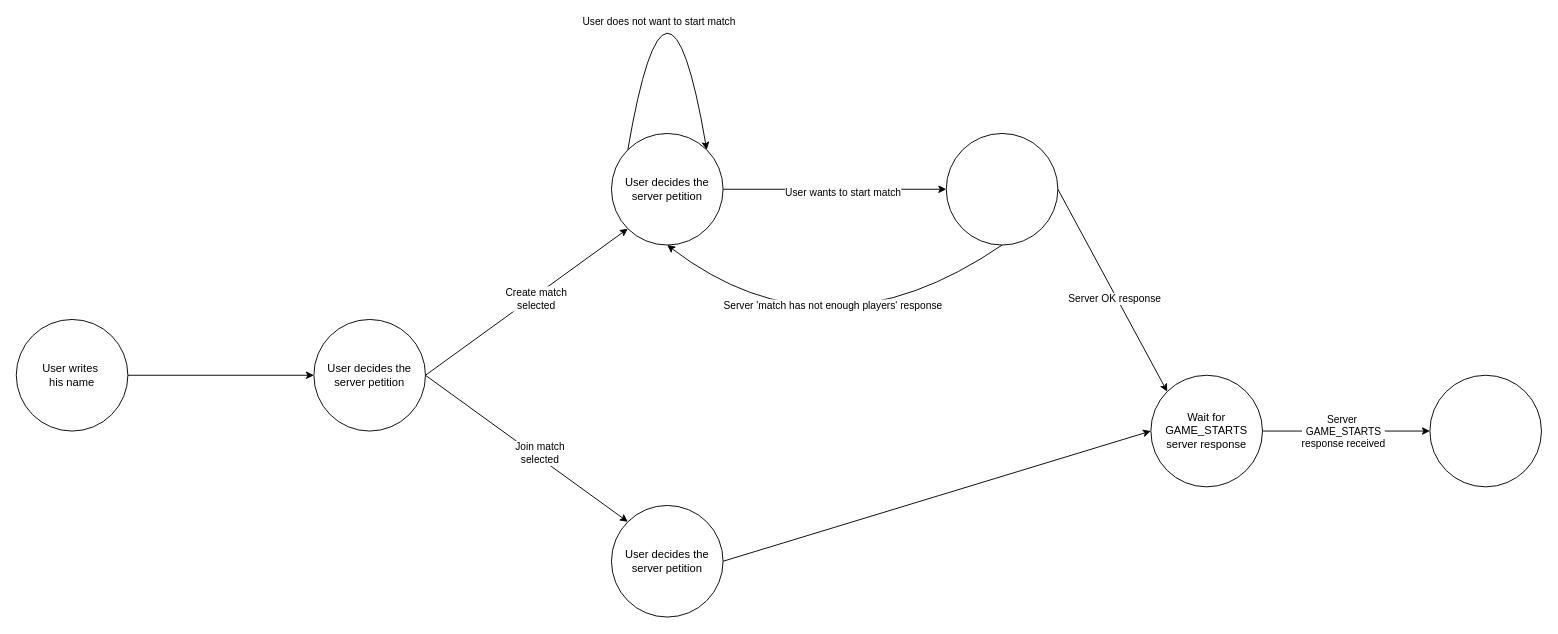
Image size: 1558x634. Some labels were removed from this diagram. The shapes that lost their labels are listed below. From the top down, each one's centre as x and y in pixels, then its label:
At pixel 1001 189: "Send GAME_STARTS petition".
At pixel 1485 430: "Game starting".
